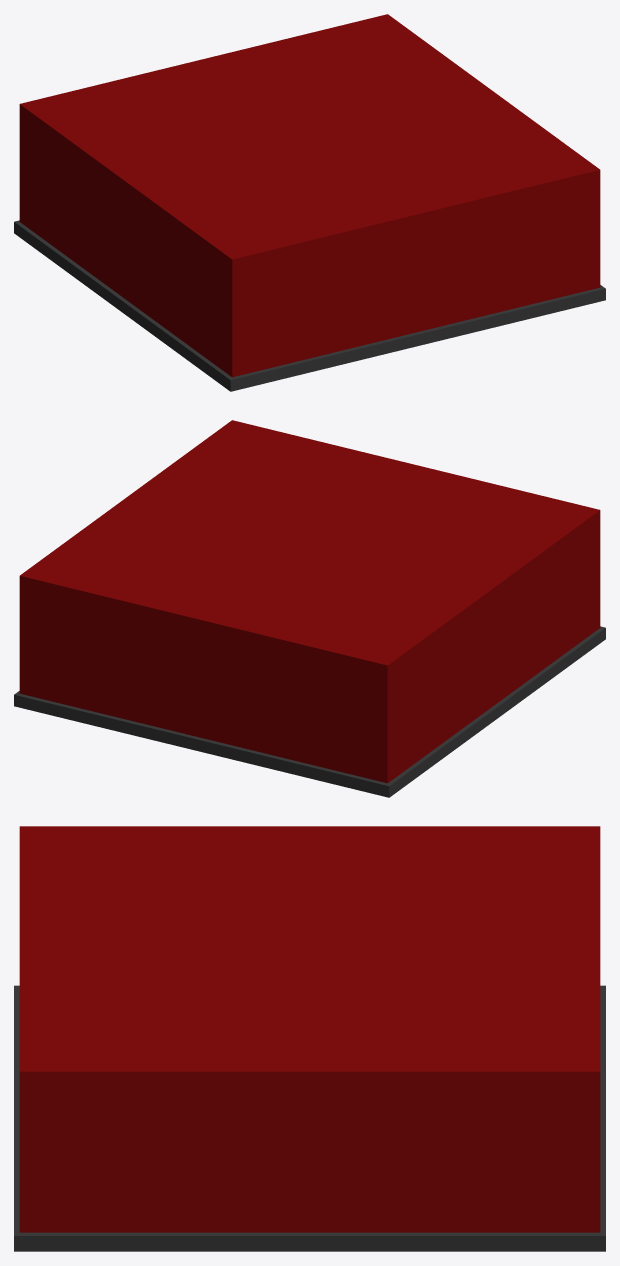
Rendered from Grill_FBX.fbx.
3 views of the same model, one above another, from view 1: azimuth 30°, elevation 25°; view 2: azimuth 150°, elevation 25°; view 3: azimuth 270°, elevation 25° (orthographic). The views are drawn at different scales.
Parts seen in each view (by area): view 1: Grill_Box, Grill_Border; view 2: Grill_Box, Grill_Border; view 3: Grill_Box, Grill_Border.
Boxes of the visible parts, left/top/right/bottom form: Grill_Box: left=19, top=14, right=600, bottom=377; Grill_Border: left=14, top=220, right=605, bottom=391; Grill_Box: left=19, top=420, right=600, bottom=783; Grill_Border: left=14, top=626, right=605, bottom=797; Grill_Box: left=19, top=826, right=600, bottom=1232; Grill_Border: left=14, top=985, right=605, bottom=1251.
Size of the model in its own units: 20 by 6.62 by 20.
